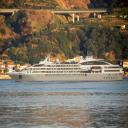cruises: (7, 53, 126, 84)
